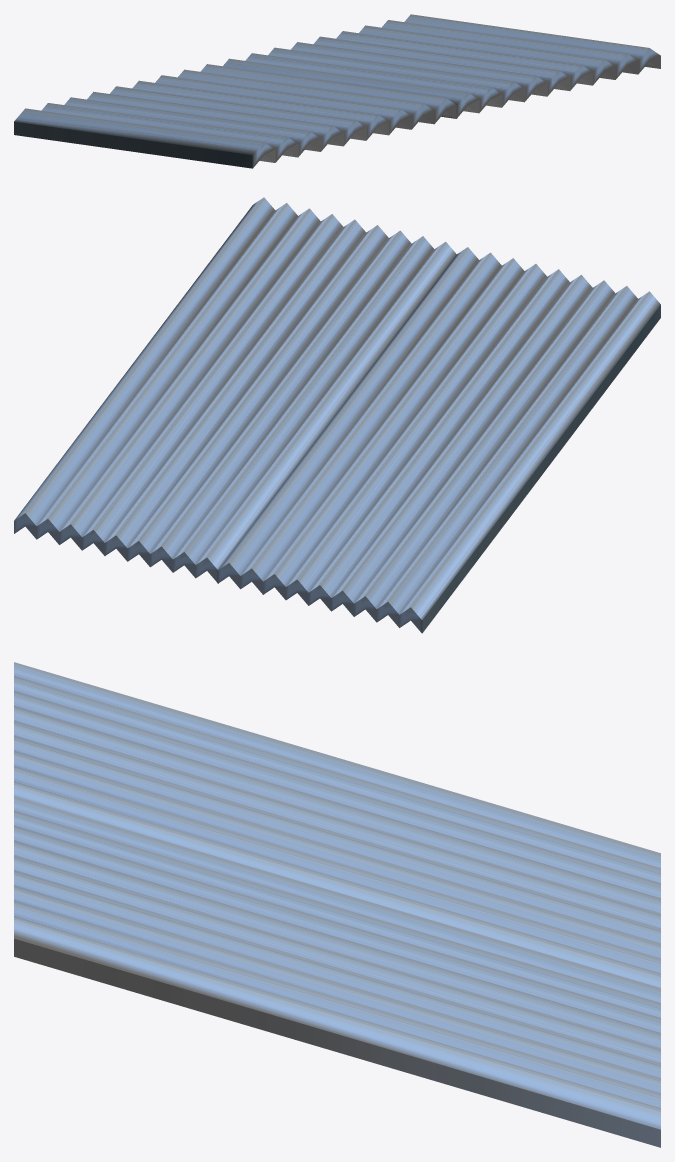
Rendered from Roof_B2.fbx.
The picture shows the model from 3 angles, top to bottom: view 1: azimuth 30°, elevation 25°; view 2: azimuth 150°, elevation 25°; view 3: azimuth 270°, elevation 25°; orthographic projection. The views are drawn at different scales.
Visible parts, largest first — view 1: Roof_B2; view 2: Roof_B2; view 3: Roof_B2.
Part boxes in pixels (<box>): Roof_B2: <box>14,14,660,168</box>; Roof_B2: <box>14,197,660,633</box>; Roof_B2: <box>14,662,660,1147</box>.
Size of the model in its own units: 556 by 215 by 564.
